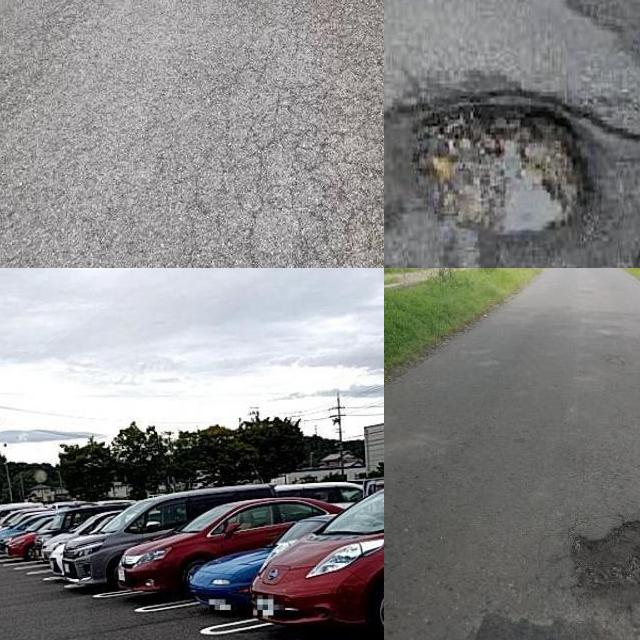Lubang: (403, 103, 585, 229), (572, 518, 640, 599)
Retak Buaya: (256, 94, 384, 268)
